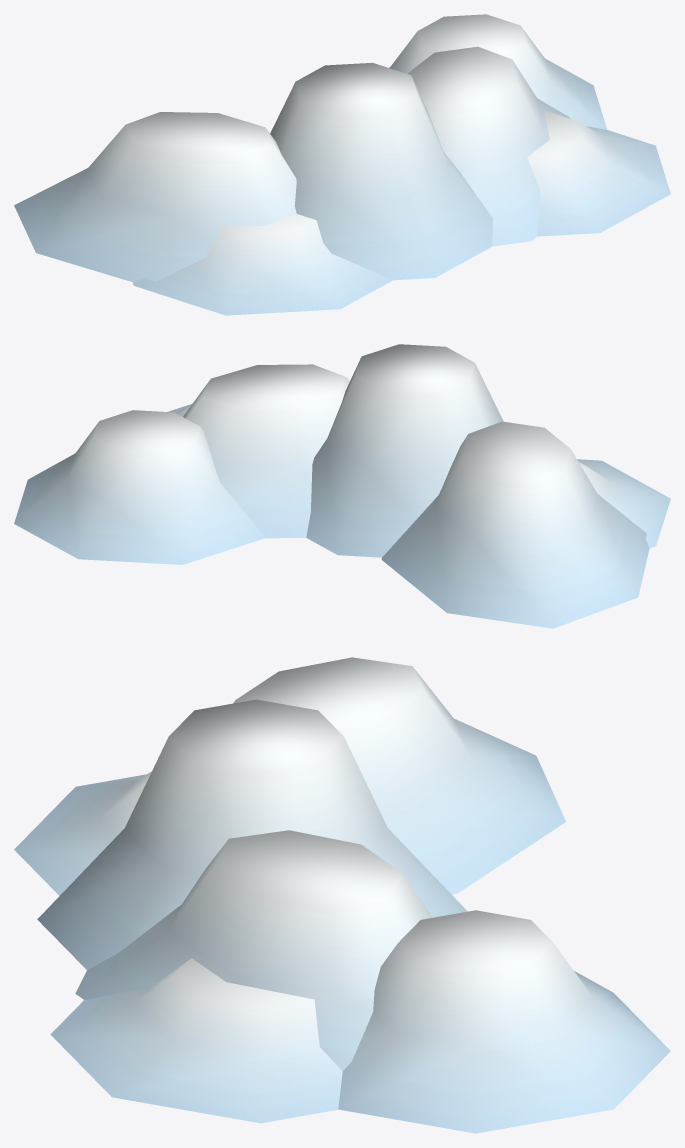
Rendered from snow-bunker.glb.
3 renders of one model, top to bottom at view 1: azimuth 30°, elevation 25°; view 2: azimuth 150°, elevation 25°; view 3: azimuth 270°, elevation 25°, orthographic. The views are drawn at different scales.
Parts seen in each view (by area): view 1: snow-bunker; view 2: snow-bunker; view 3: snow-bunker.
Boxes of the visible parts, x1,y1,x2,y2 form: snow-bunker: [14, 14, 670, 315]; snow-bunker: [14, 344, 670, 628]; snow-bunker: [14, 657, 670, 1133].
Size of the model in its own units: 1.94 by 0.4137 by 1.35.
1 material, 1 textured.
